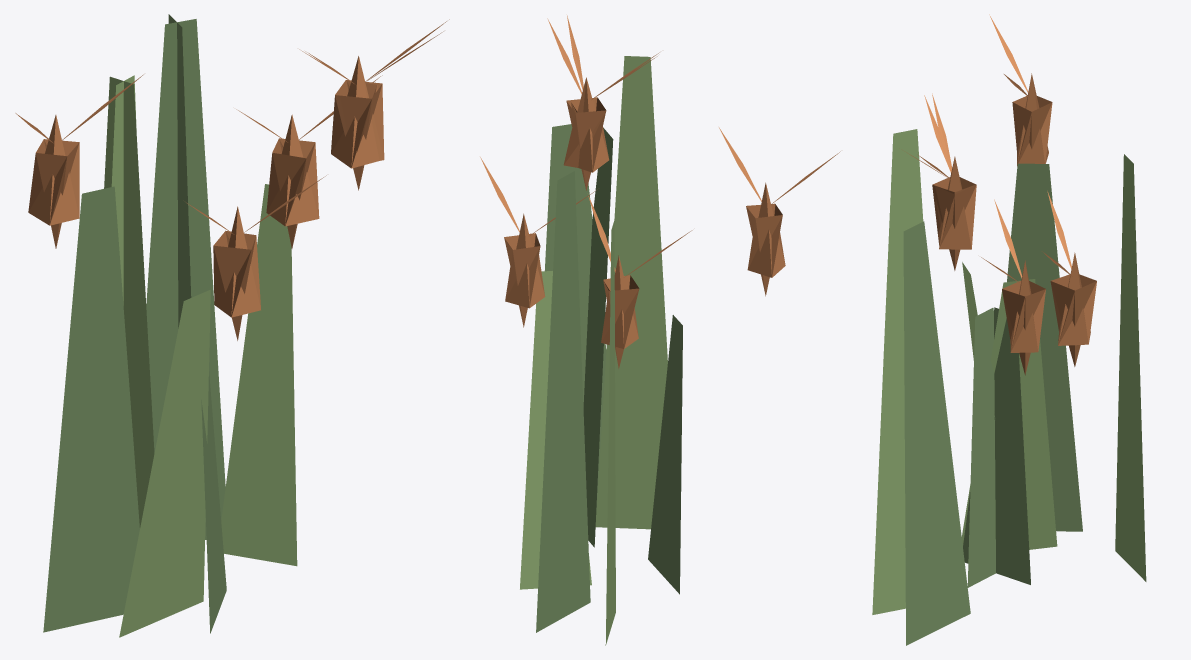
The model's file is nong.dao@fruiting__bloom.glb.
The picture shows the model from 3 angles, left to right: view 1: azimuth 30°, elevation 25°; view 2: azimuth 150°, elevation 25°; view 3: azimuth 270°, elevation 25°; orthographic projection. The views are drawn at different scales.
Parts seen in each view (by area): view 1: nong.dao@fruiting__bloom; view 2: nong.dao@fruiting__bloom; view 3: nong.dao@fruiting__bloom.
Part boxes in pixels (box(x1,y1,x2,y2)): nong.dao@fruiting__bloom: box(15, 14, 449, 637); nong.dao@fruiting__bloom: box(480, 15, 840, 645); nong.dao@fruiting__bloom: box(872, 14, 1146, 645).
Size of the model in its own units: 0.7703 by 1.07 by 0.5942.
